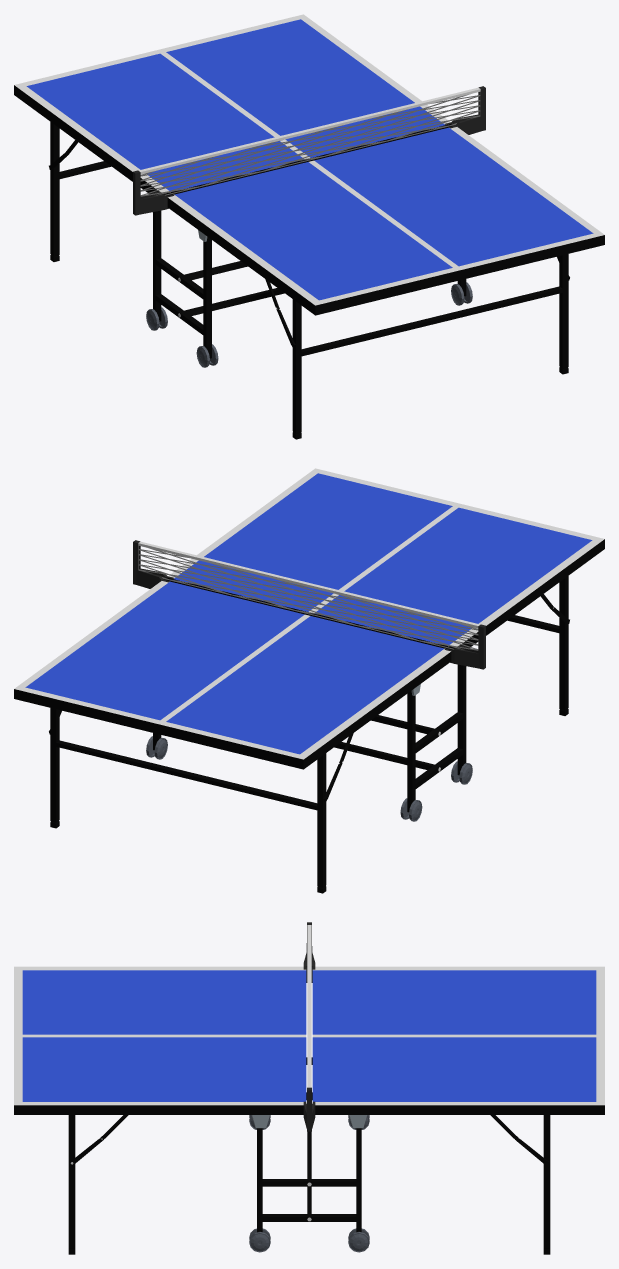
File: pingpong_table.fbx
The picture shows the model from 3 angles, top to bottom: view 1: azimuth 30°, elevation 25°; view 2: azimuth 150°, elevation 25°; view 3: azimuth 270°, elevation 25°; orthographic projection.
Parts seen in each view (by area): view 1: Table; view 2: Table; view 3: Table.
Part boxes in pixels (x1,y1,x2,y2): Table: [14, 14, 604, 439]; Table: [14, 468, 604, 893]; Table: [14, 922, 604, 1254].
Bounding box in the file's own units: 184 × 93.63 × 274.
